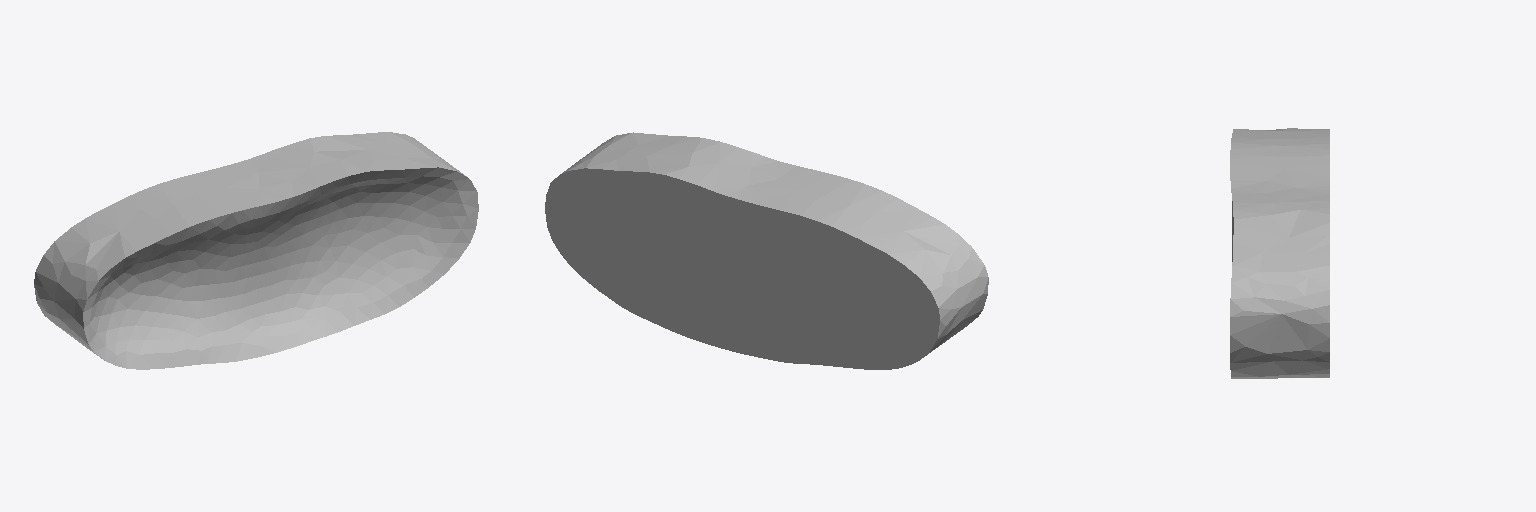
Rendered from scan2_volume_v6.obj.
3 views of the same model, side by side, from view 1: azimuth 30°, elevation 25°; view 2: azimuth 150°, elevation 25°; view 3: azimuth 270°, elevation 25° (orthographic).
Parts seen in each view (by area): view 1: scan2_volume_v5_remesh01.obj; view 2: scan2_volume_v5_remesh01.obj; view 3: scan2_volume_v5_remesh01.obj.
Part boxes in pixels (x1,y1,x2,y2): scan2_volume_v5_remesh01.obj: (34, 132, 478, 369); scan2_volume_v5_remesh01.obj: (545, 132, 988, 369); scan2_volume_v5_remesh01.obj: (1230, 128, 1329, 378).
Bounding box in the file's own units: 2.66 × 1.03 × 0.58.